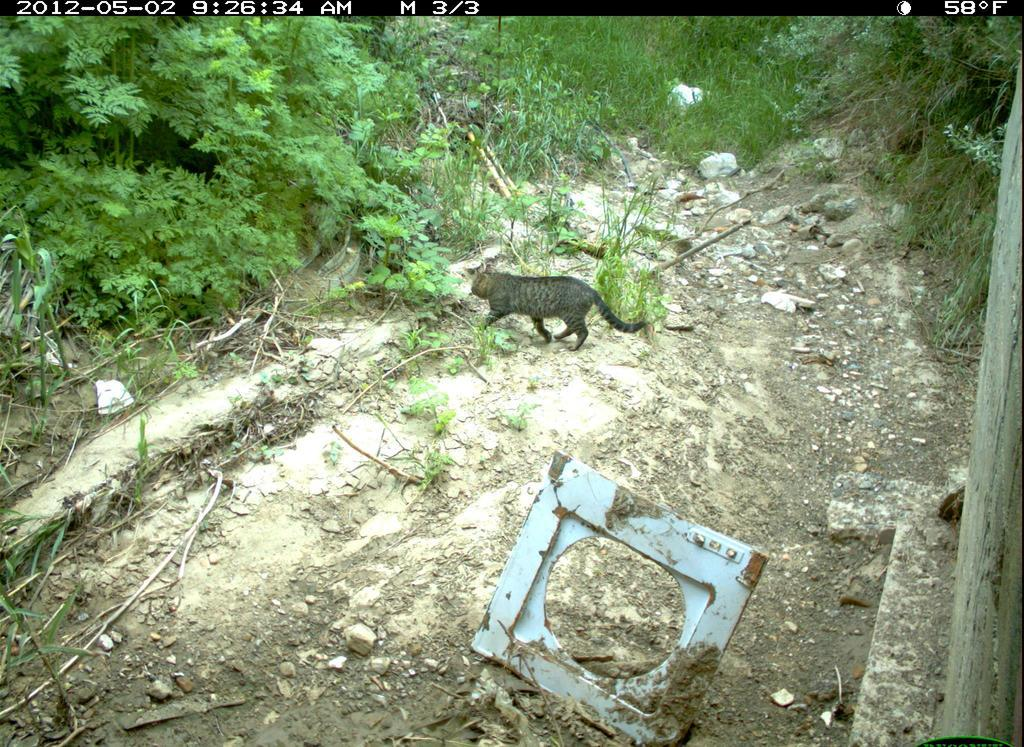cat: (463, 259, 652, 356)
